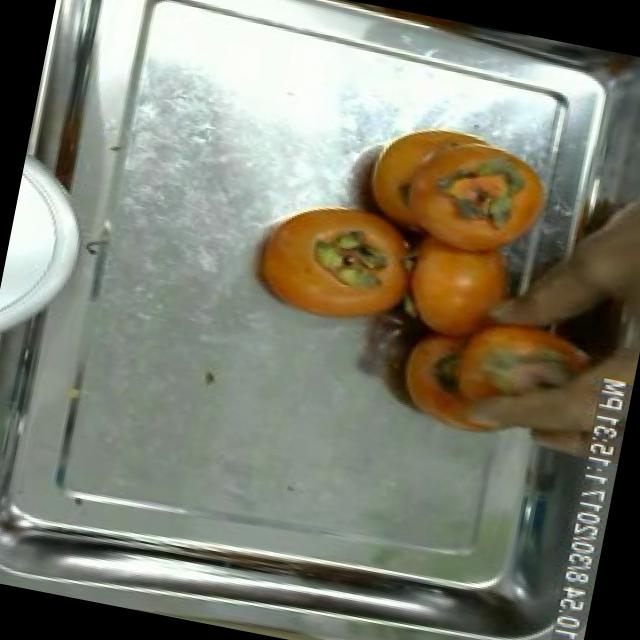Fruit: (231, 183, 438, 344)
